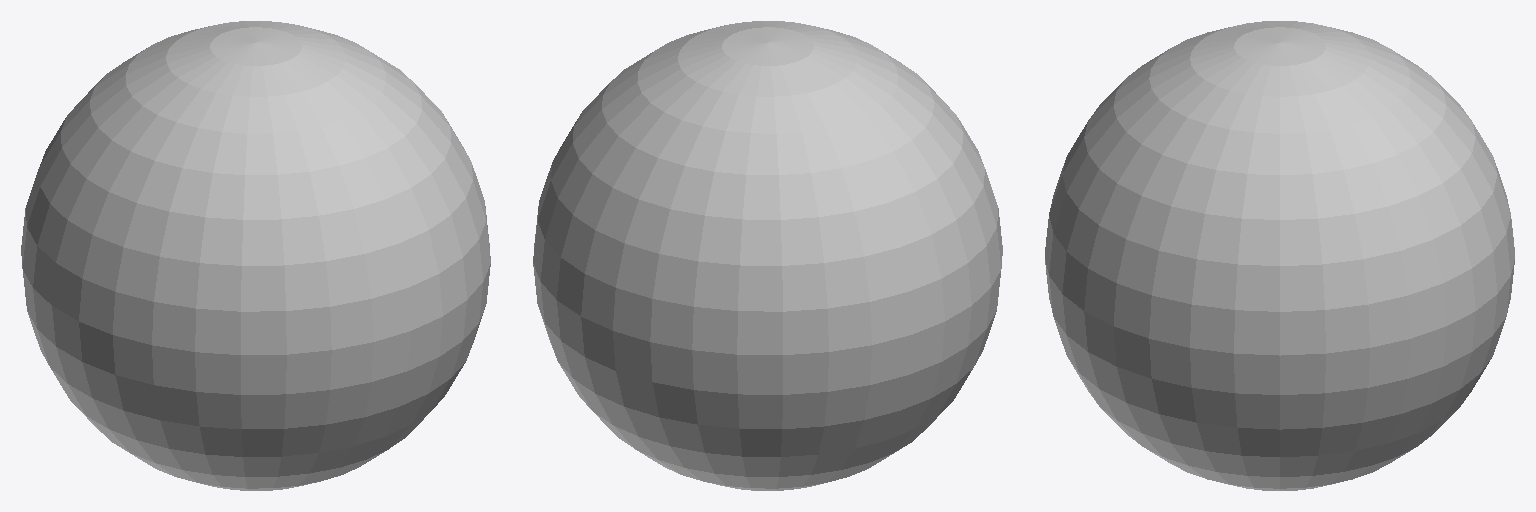
Rendered from earth.obj.
3 renders of one model, left to right at view 1: azimuth 30°, elevation 25°; view 2: azimuth 150°, elevation 25°; view 3: azimuth 270°, elevation 25°, orthographic.
Visible parts, largest first — view 1: Earth; view 2: Earth; view 3: Earth.
Part boxes in pixels (left/top/right/bottom): Earth: left=21, top=21, right=490, bottom=490; Earth: left=533, top=21, right=1002, bottom=490; Earth: left=1045, top=21, right=1514, bottom=490.
Bounding box in the file's own units: 2 × 2 × 2.